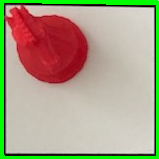Red Knight: (4, 5, 95, 86)
